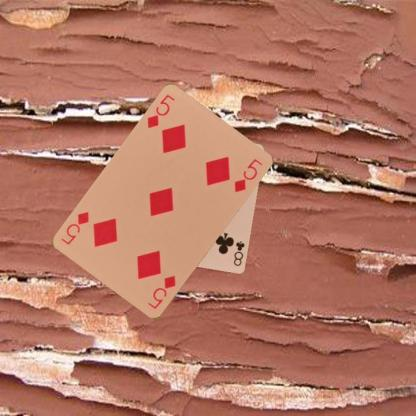5d: (145, 273, 178, 311), (145, 92, 176, 130)
8c: (230, 238, 245, 267)
